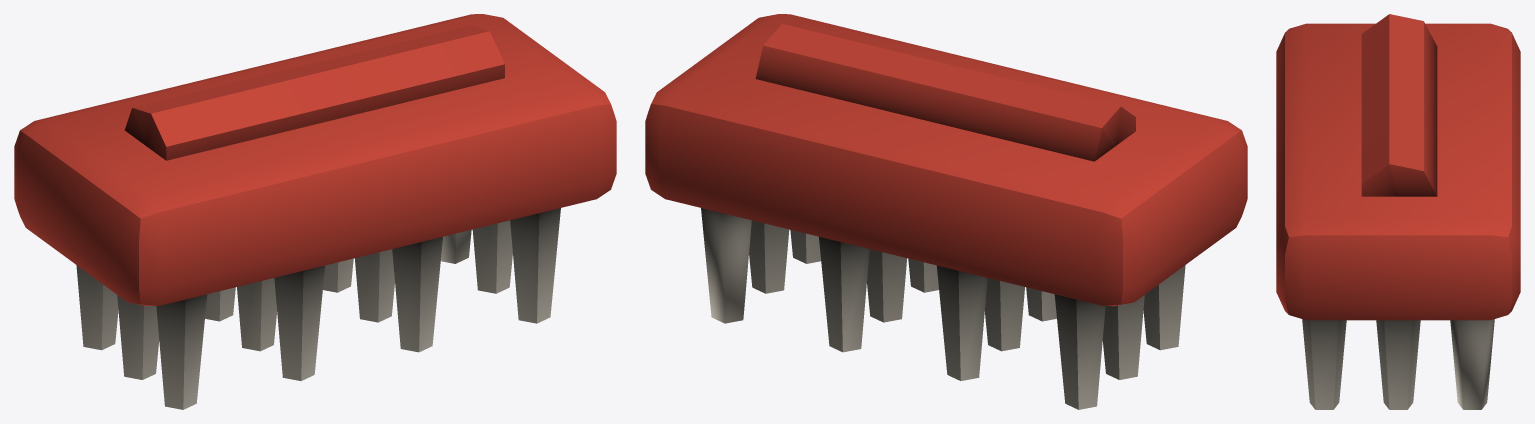
The model's file is scrub_brush.glb.
3 renders of one model, left to right at view 1: azimuth 30°, elevation 25°; view 2: azimuth 150°, elevation 25°; view 3: azimuth 270°, elevation 25°, orthographic. The views are drawn at different scales.
Visible parts, largest first — view 1: body, strap, bristle_0_0, bristle_0_1, bristle_0_2, bristle_0_3, bristle_1_0, bristle_2_0, bristle_1_2, bristle_1_3, bristle_1_1, bristle_2_1 (+2 smaller); view 2: body, strap, bristle_2_0, bristle_2_1, bristle_2_2, bristle_2_3, bristle_1_0, bristle_0_0, bristle_1_2, bristle_1_3, bristle_1_1, bristle_0_1 (+2 smaller); view 3: body, strap, bristle_0_3, bristle_2_3, bristle_1_3.
Part boxes in pixels (x1,y1,x2,y2): body: (14,14,616,306); strap: (125,25,504,160); bristle_0_0: (156,294,207,409); bristle_0_1: (274,265,325,380); bristle_0_2: (392,237,442,352); bristle_0_3: (510,208,560,323); bristle_1_0: (117,295,159,379); bristle_2_0: (76,265,118,350); bristle_1_2: (354,249,394,322); bristle_1_3: (472,220,512,293); bristle_1_1: (237,278,276,351); bristle_2_1: (205,287,235,321); body: (645,14,1247,306); strap: (755,24,1135,161); bristle_2_0: (1054,294,1105,409); bristle_2_1: (936,265,987,380); bristle_2_2: (819,237,869,352); bristle_2_3: (701,208,751,323); bristle_1_0: (1102,295,1144,379); bristle_0_0: (1143,265,1185,350); bristle_1_2: (867,249,907,322); bristle_1_3: (749,220,789,293); bristle_1_1: (985,278,1024,351); bristle_0_1: (1026,287,1056,321); body: (1276,23,1520,320); strap: (1361,14,1437,196); bristle_0_3: (1302,319,1346,409); bristle_2_3: (1450,319,1494,409); bristle_1_3: (1376,320,1420,409).
Bounding box in the file's own units: 0.14 × 0.0707 × 0.066.
